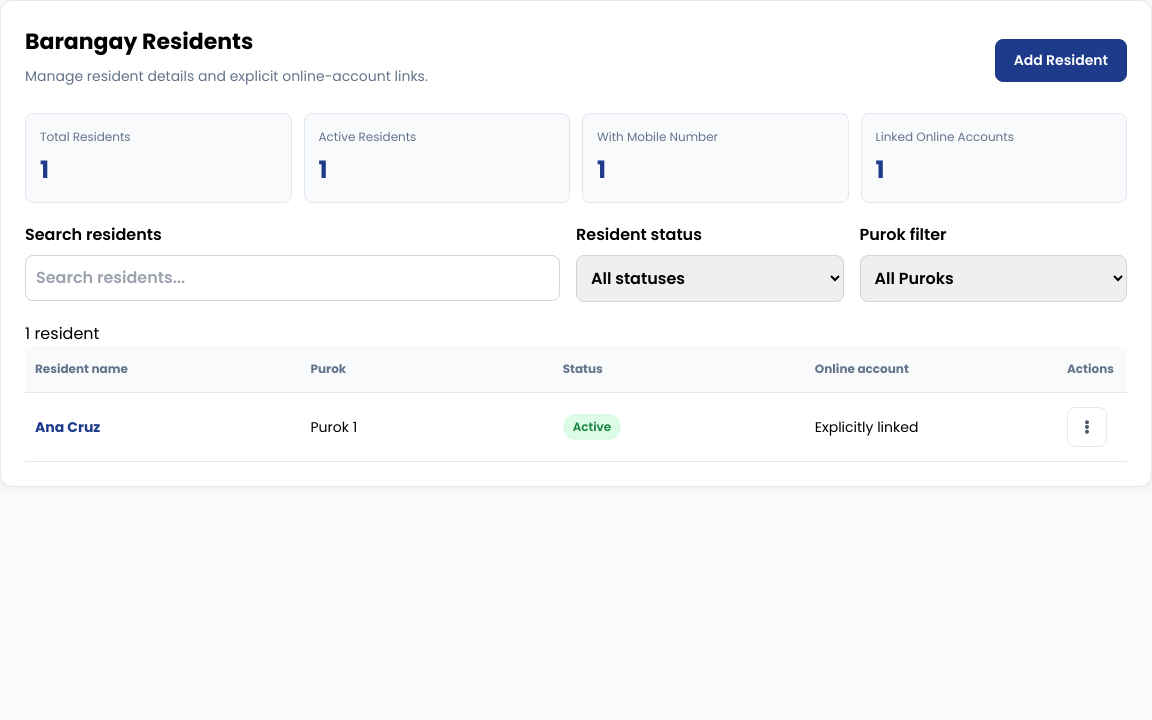
Scenario: Edit opens existing form with original unformatted saved values
Click the button "Ana Cruz": (68, 427) [35,412,100,442]
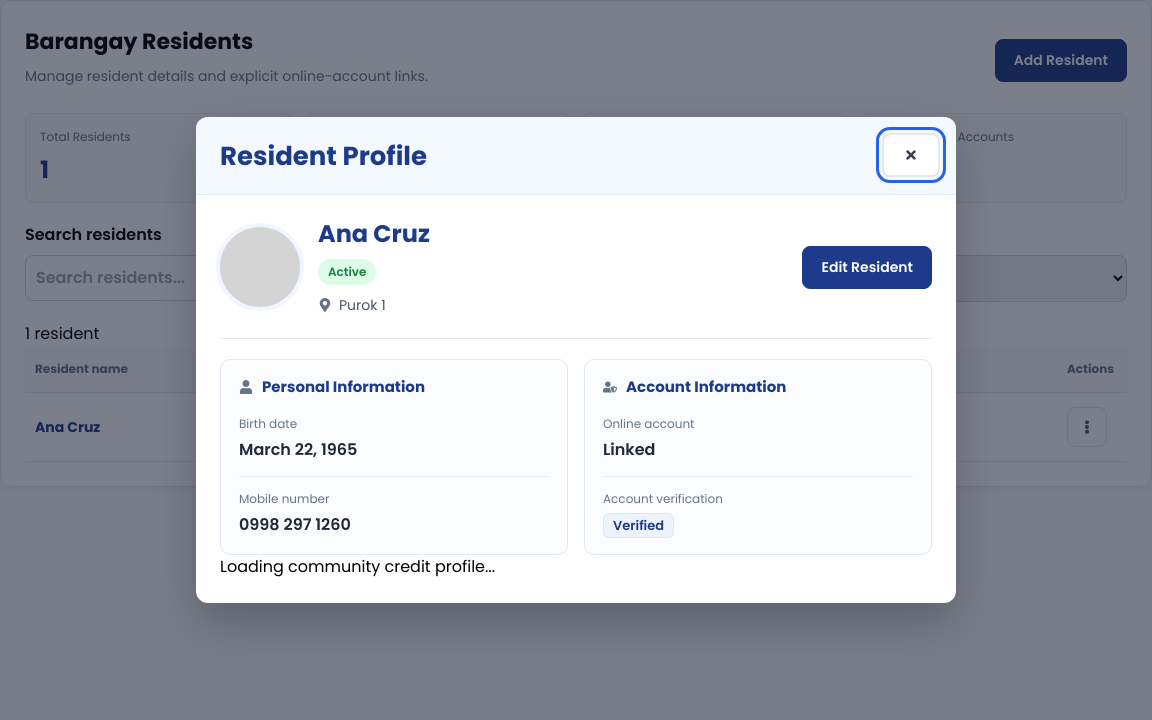
Click the button "Edit Resident": (867, 267) [802,246,932,289]
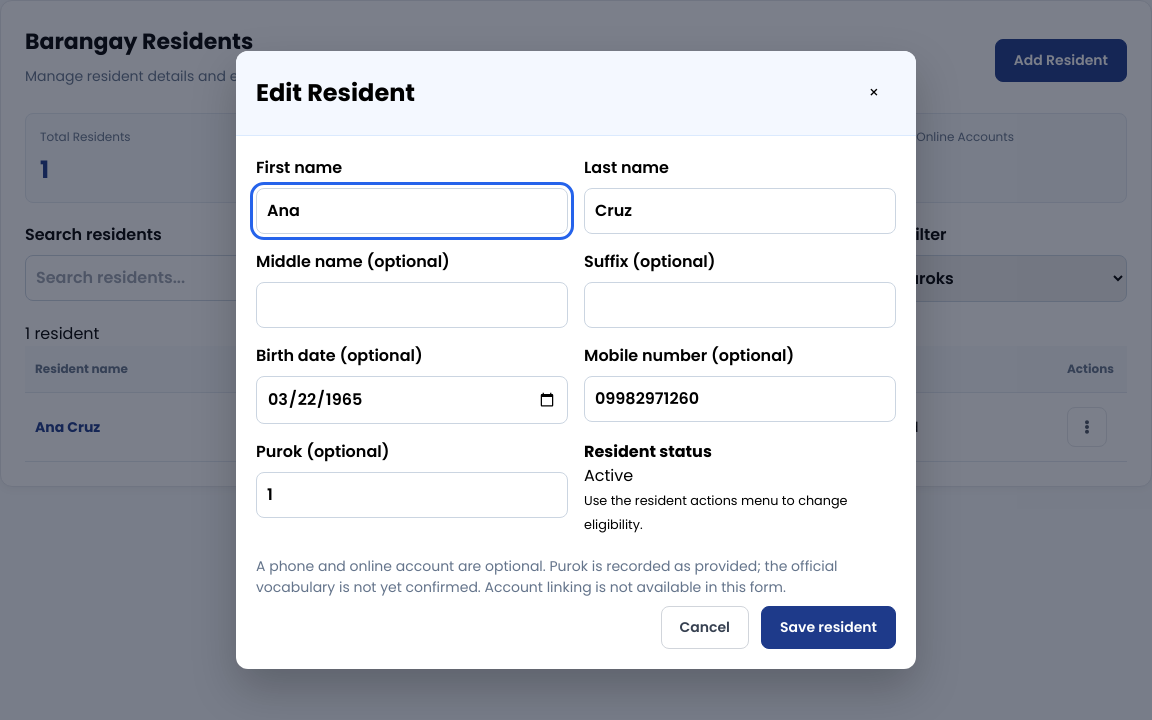
Result: the dialog "Edit Resident" is shown at [236,51,916,669]
Result: the date field labelled "Birth date (optional)" holds "1965-03-22" at [256,376,568,424]
Result: the field labelled "Mobile number (optional)" holds "09982971260" at [584,376,896,422]
